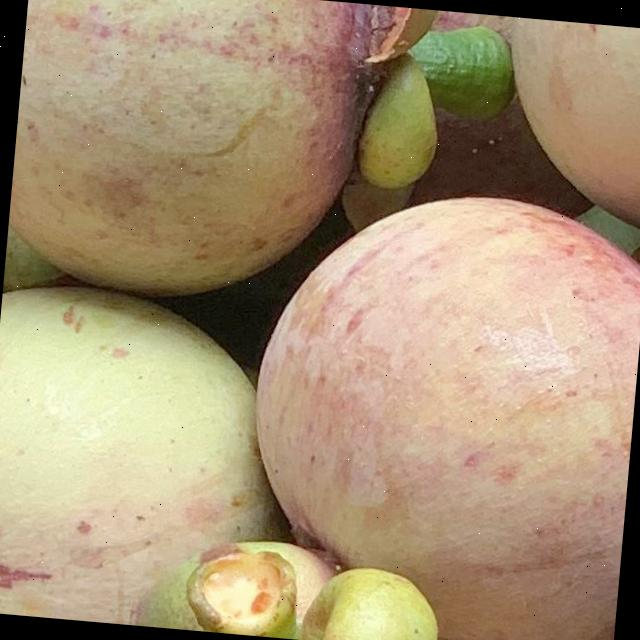mangosteen: (2, 0, 514, 325)
